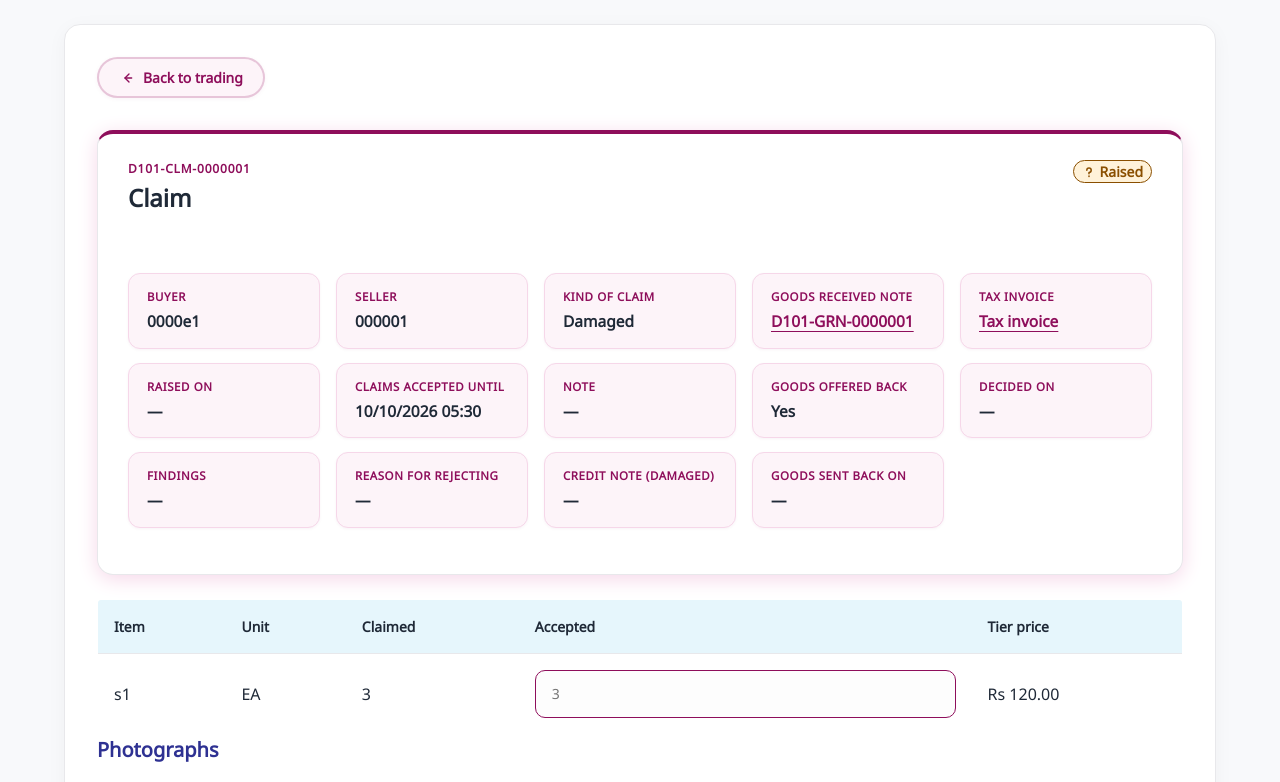
Test: the claim › lets the seller approve part of it with the goods to come back
Type "2" into the field named "Accepted". click: (745, 694)
box: [535, 670, 956, 718]
(page scrolled)
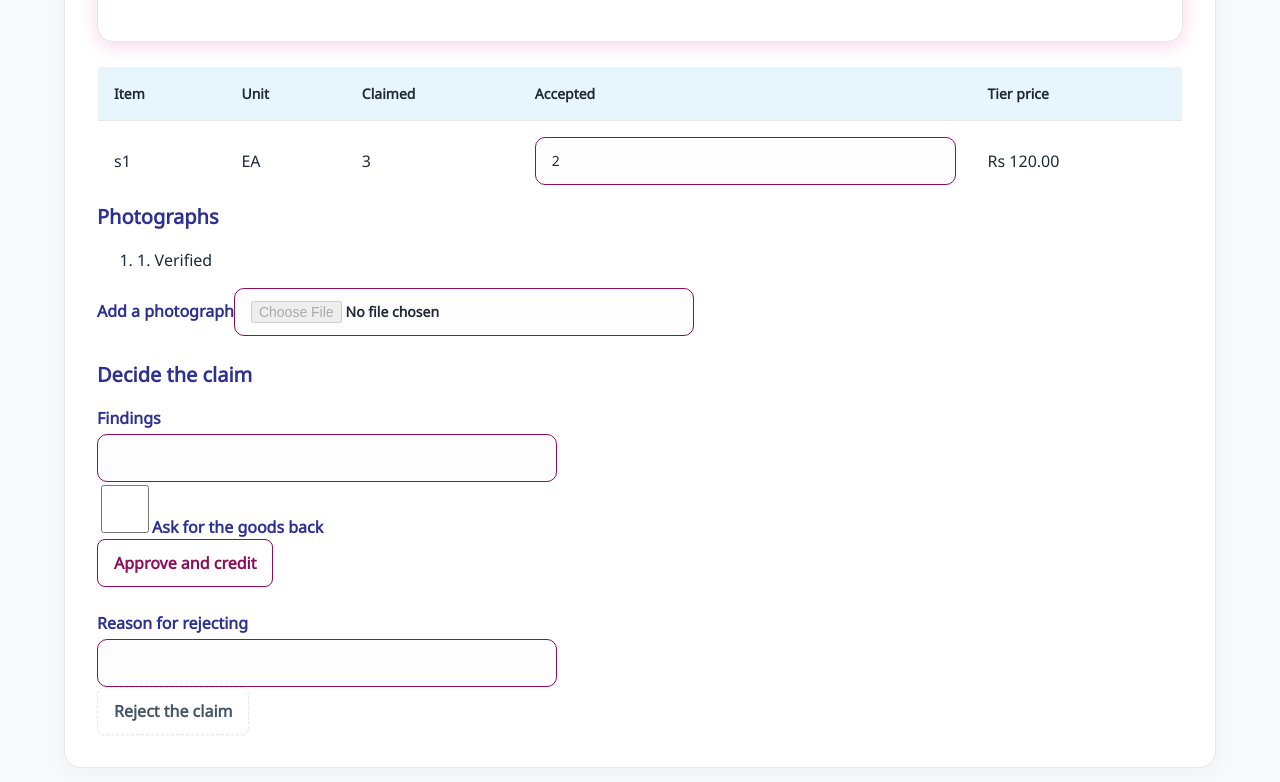
Click the checkbox labelled "Ask for the goods back". click: (125, 509)
box: [101, 485, 149, 533]
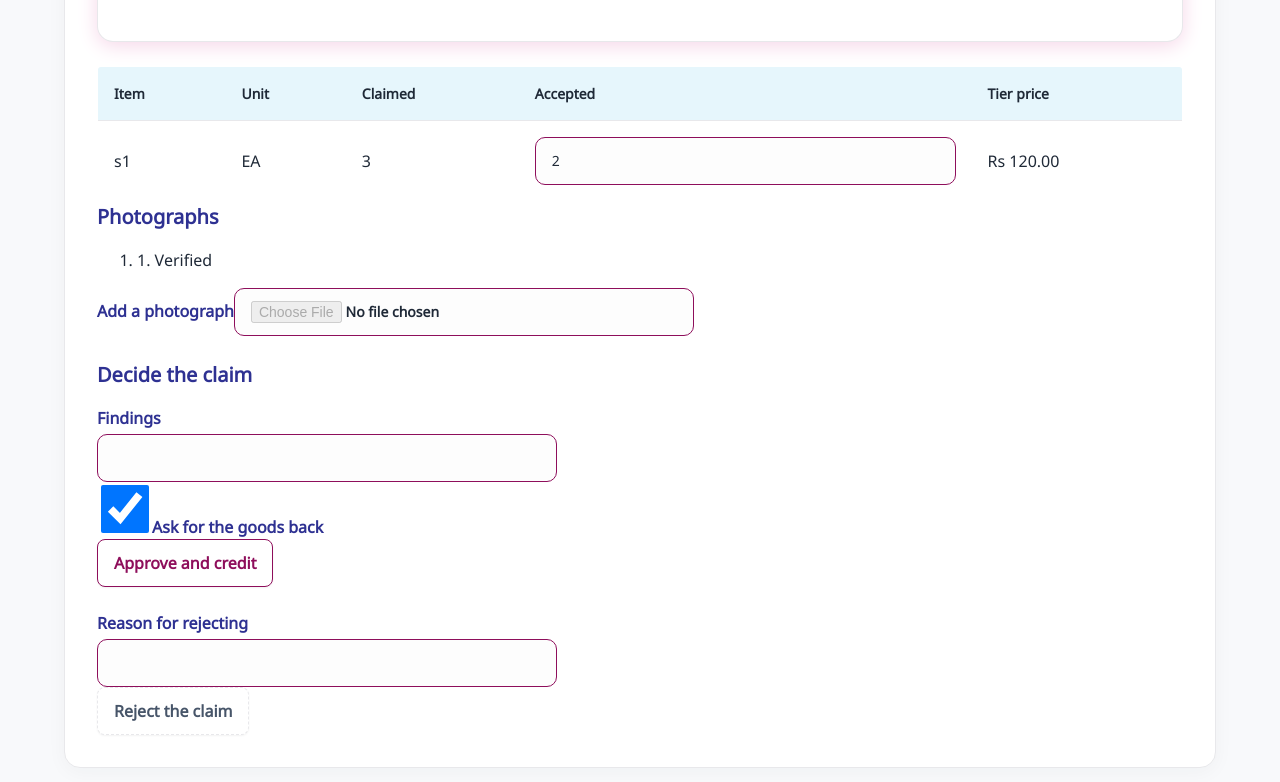
Click the button "Approve and credit". click: (185, 563)
box: [97, 539, 274, 587]
(page scrolled)
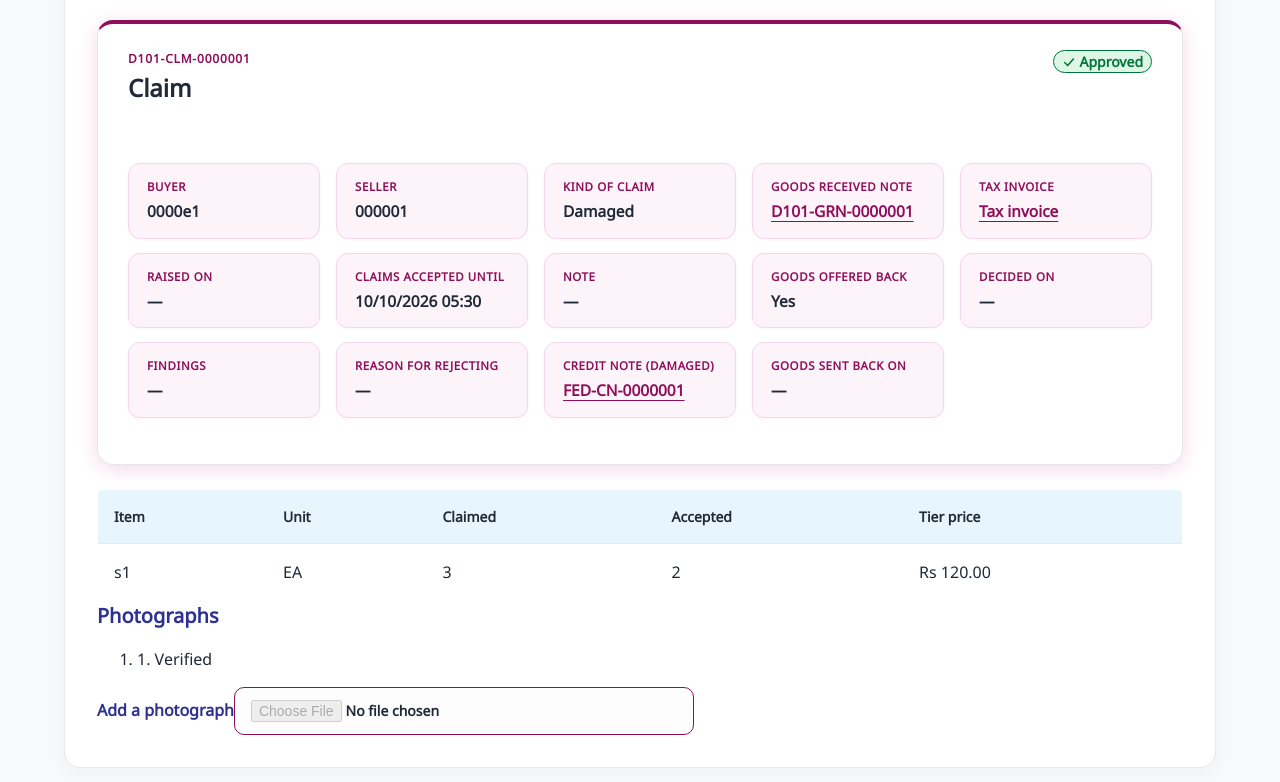
Now the link "FED-CN-0000001" is shown, box [563, 379, 685, 401]
